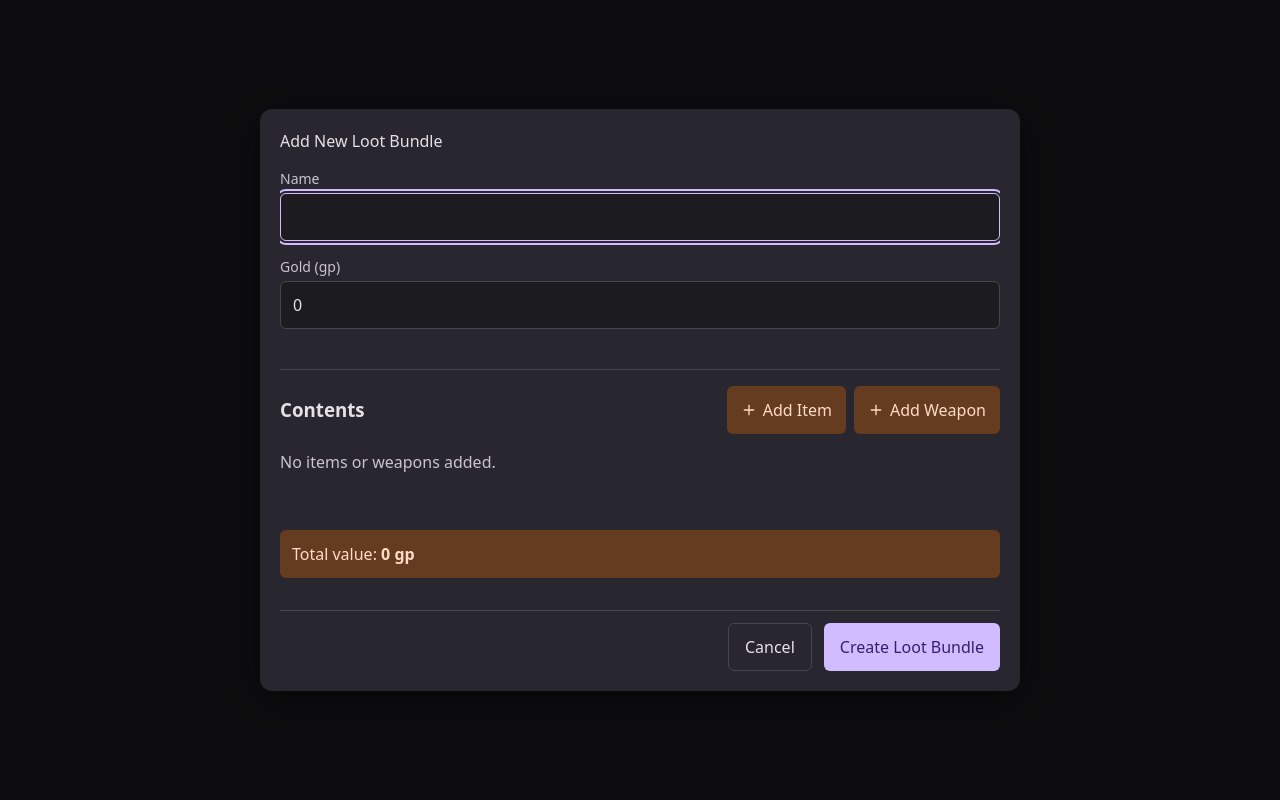
Test case: LootBundleEditor › removes the selected entry by index and recalculates the total
Replace the text in the number field labelled "Gold (gp)" with "12.5" at (640,305), box [280,281,1000,329]
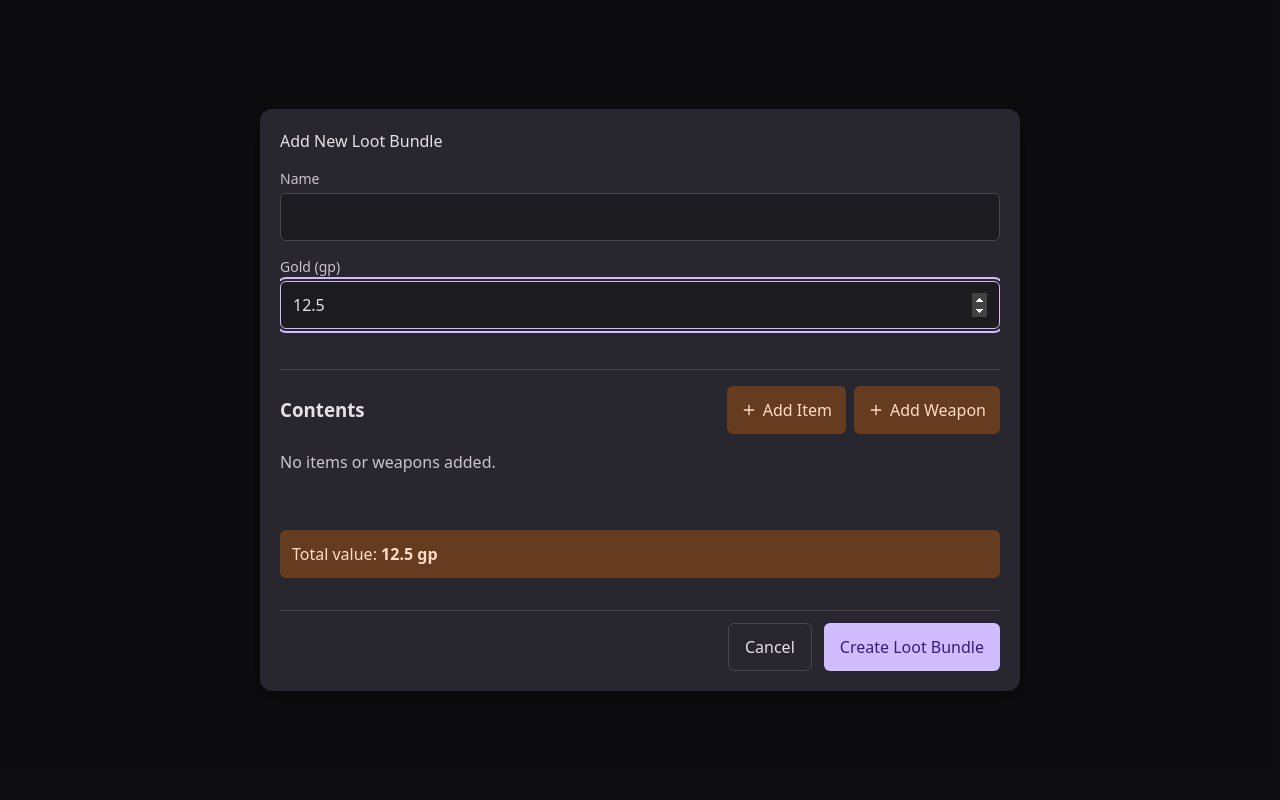
Click the button "Add Item" at (786,410), box [727,386,846,434]
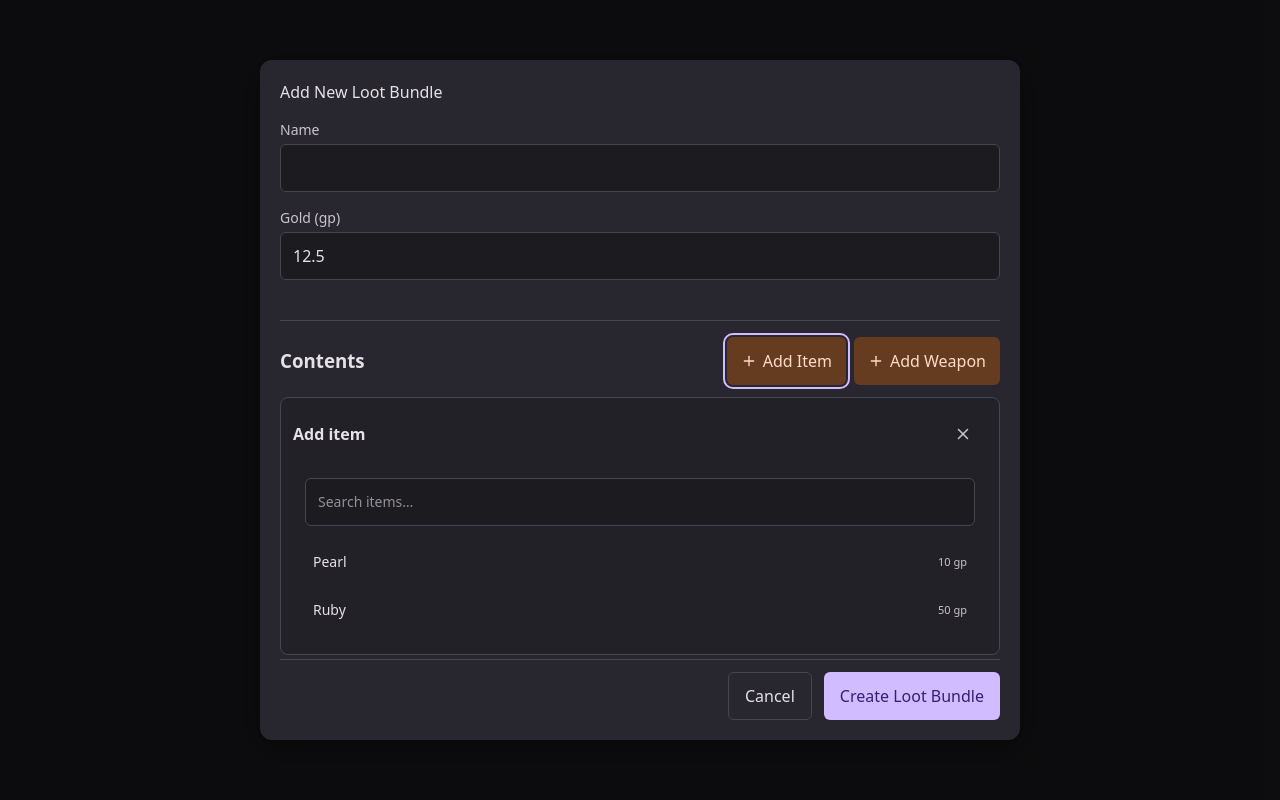
Click the button "Ruby 50 gp" at (329,610), box [301,586,979,634]
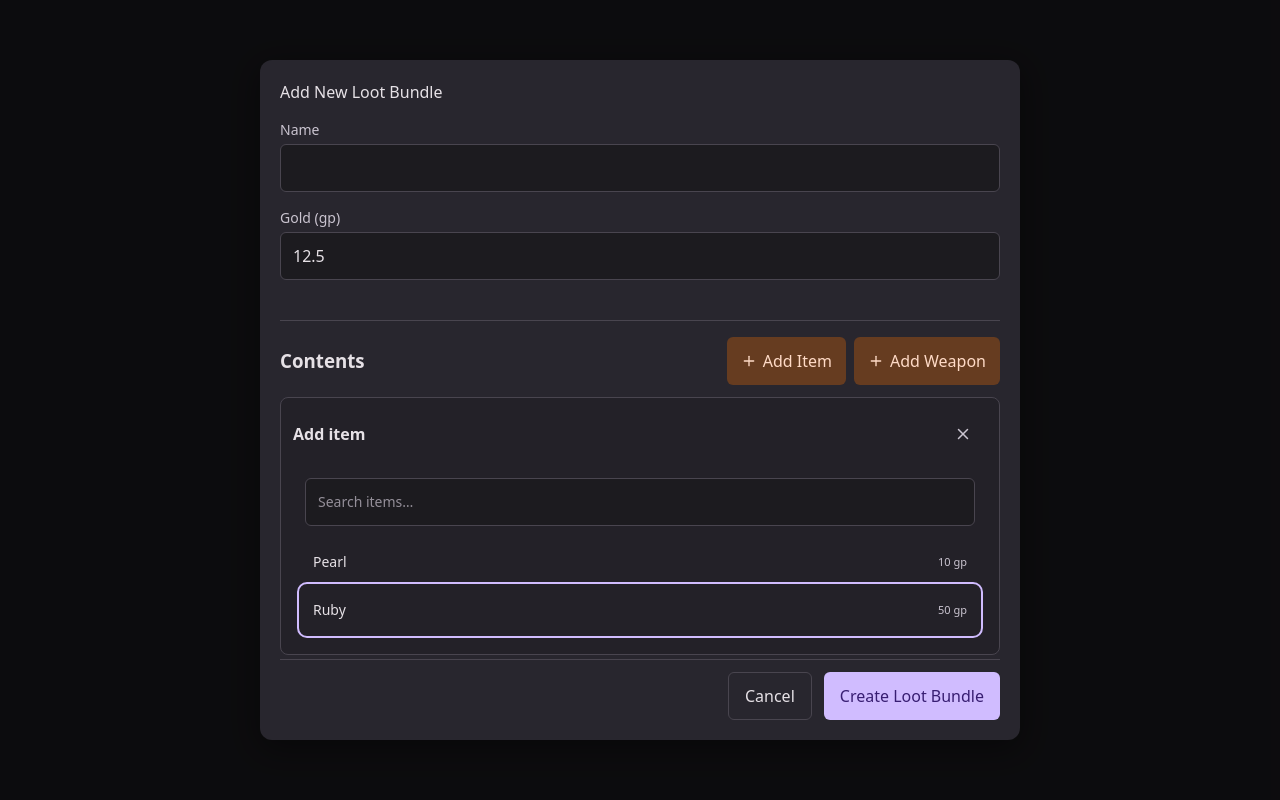
Click the button "Pearl 10 gp" at (330,562), box [301,538,979,586]
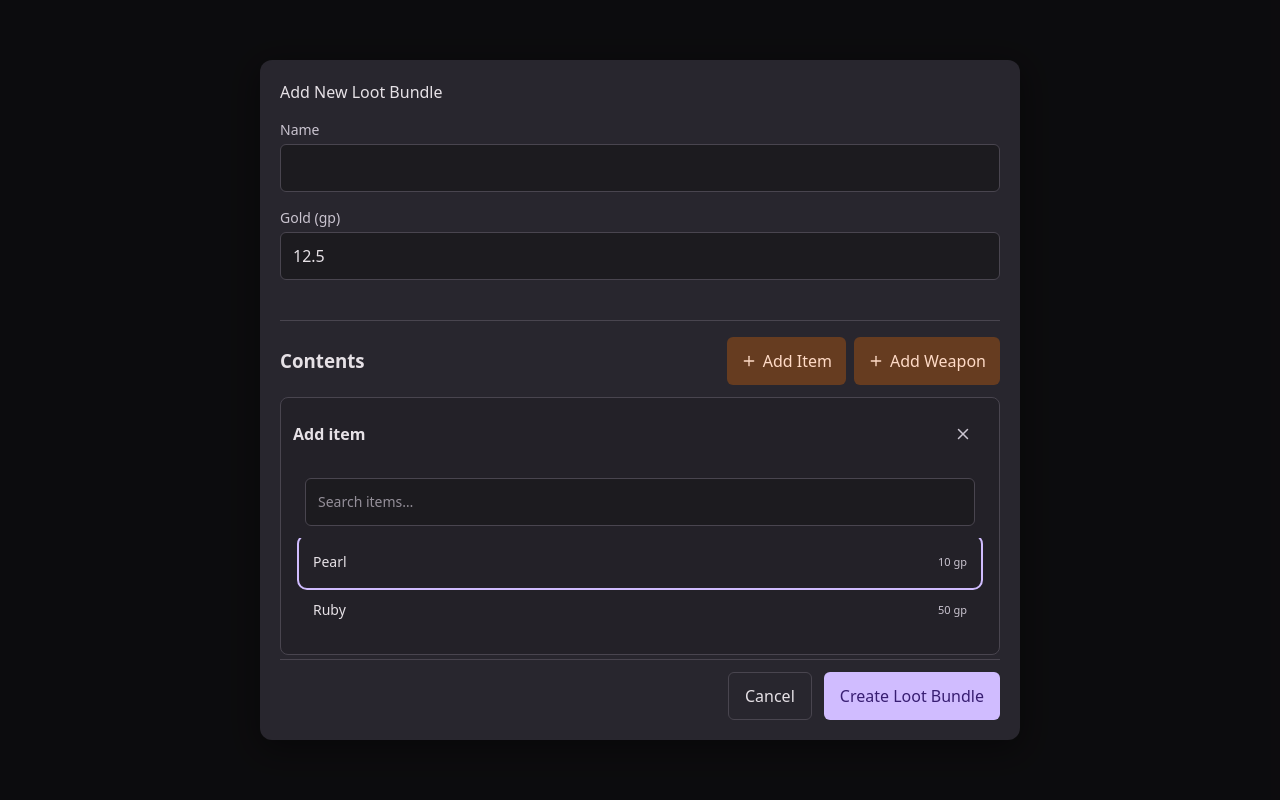
Click the button named "Close add item panel" at (963,434), box [939,410,987,458]
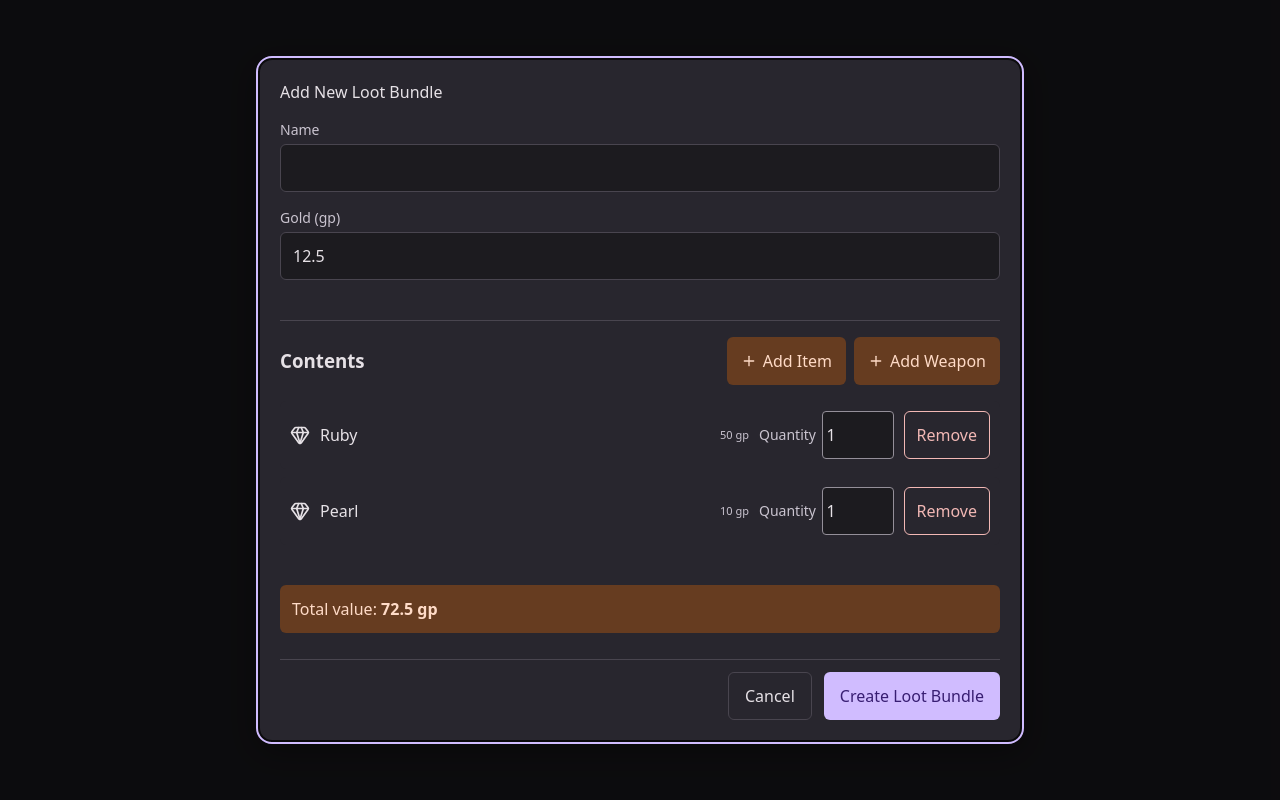
Now the text "Ruby" is shown, box [320,424,358,446]
Now the text "Pearl" is shown, box [320,500,358,522]
Now the text "Total value:" shows "72.5 gp", box [381,598,438,620]
Click the button "Remove" in the row of "Pearl" at (947,511), box [904,487,990,535]
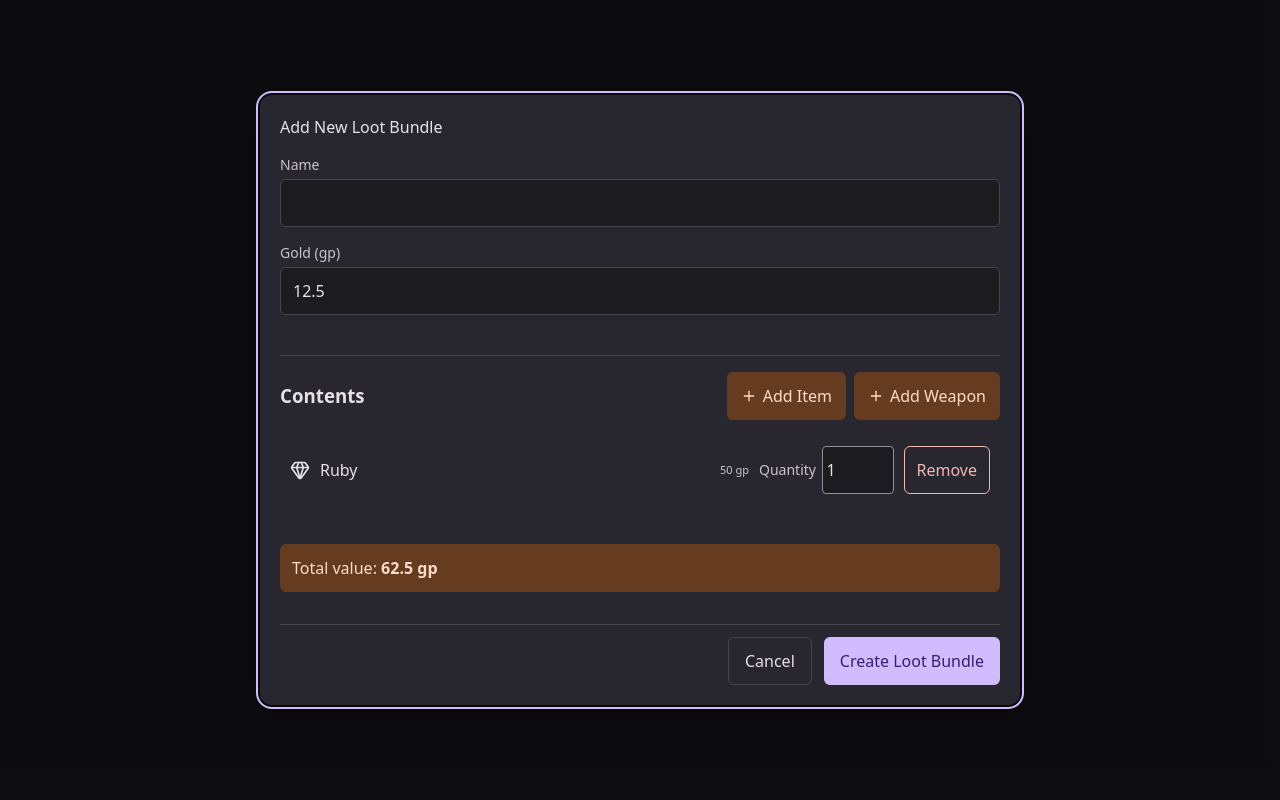
Now the text "Ruby" is shown, box [320,459,358,481]
Now the text "Pearl" is gone
Now the text "Total value:" shows "62.5 gp", box [381,557,438,579]
